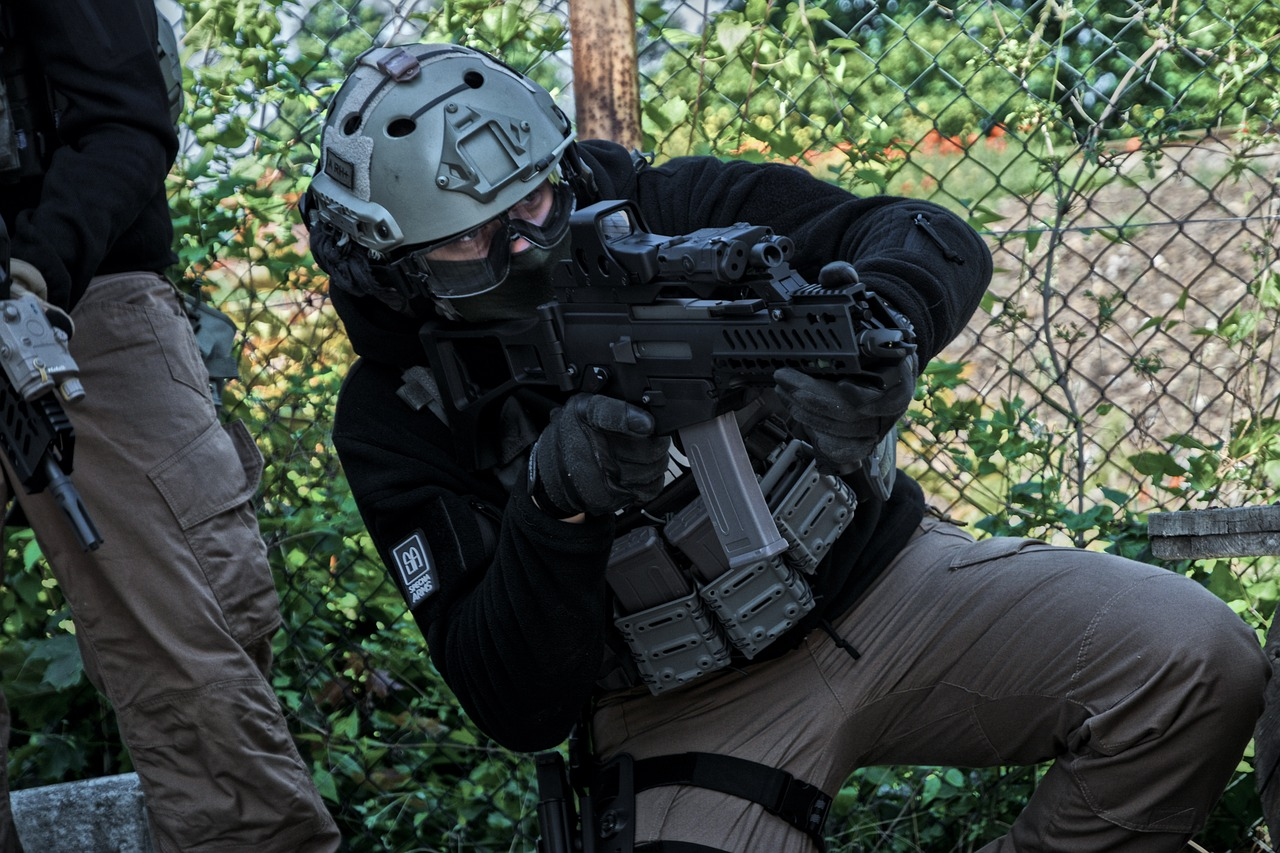gun: (420, 193, 923, 575), (0, 203, 107, 561)
